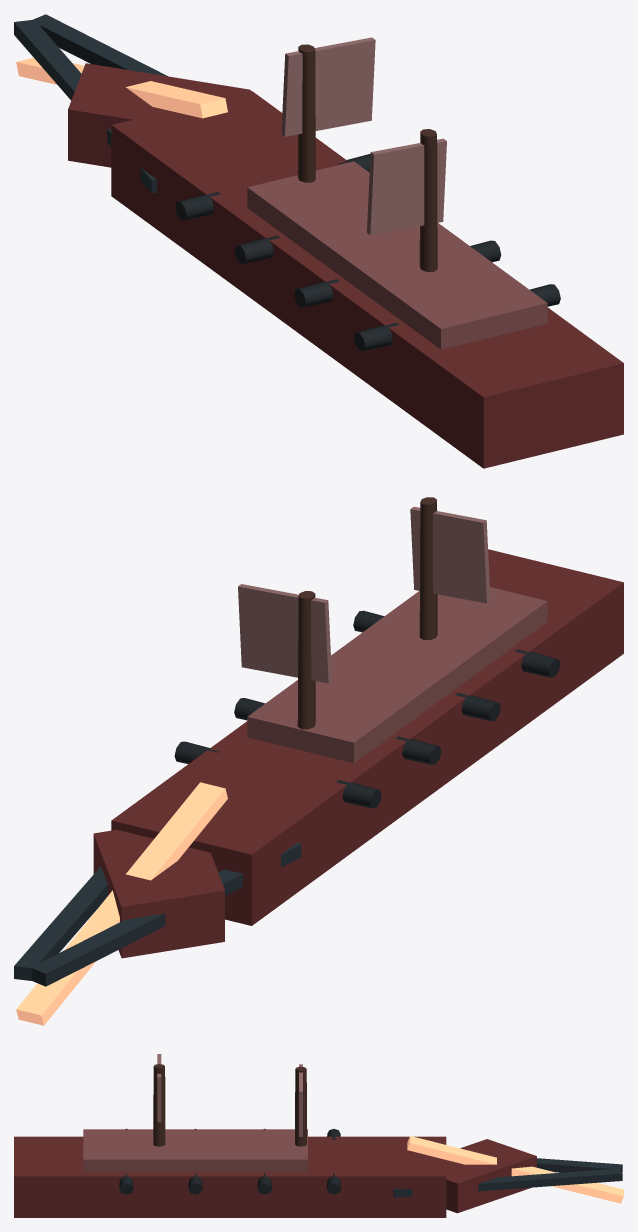
The model's file is ship_main_52.glb.
3 renders of one model, top to bottom at view 1: azimuth 30°, elevation 25°; view 2: azimuth 150°, elevation 25°; view 3: azimuth 270°, elevation 25°, orthographic. The views are drawn at different scales.
Parts seen in each view (by area): view 1: Hull, Deck_0, Bow, Sail_0, Sail_1, ProwIdentity, PortHook, StarboardHook, Mast_1, Mast_0, Gun_P_1, Gun_P_2 (+2 smaller); view 2: Hull, Deck_0, Bow, ProwIdentity, Sail_0, Sail_1, PortHook, StarboardHook, Mast_1, Mast_0, Gun_P_2, Gun_P_0 (+2 smaller); view 3: Hull, Deck_0, Bow, ProwIdentity, StarboardHook, Mast_1, PortHook, Mast_0, Sail_1, Sail_0, Gun_S_2, Gun_S_3.
Boxes of the visible parts, left/top/right/bottom form: Hull: left=111, top=91, right=623, bottom=468; Deck_0: left=247, top=161, right=547, bottom=349; Bow: left=68, top=63, right=250, bottom=167; Sail_0: left=281, top=37, right=375, bottom=136; Sail_1: left=367, top=138, right=446, bottom=235; ProwIdentity: left=16, top=57, right=227, bottom=118; PortHook: left=14, top=19, right=156, bottom=192; StarboardHook: left=33, top=14, right=167, bottom=76; Mast_1: left=419, top=129, right=437, bottom=271; Mast_0: left=297, top=44, right=315, bottom=182; Gun_P_1: left=234, top=235, right=279, bottom=263; Gun_P_2: left=294, top=279, right=339, bottom=307; Hull: left=111, top=549, right=623, bottom=925; Deck_0: left=247, top=587, right=547, bottom=763; Bow: left=93, top=829, right=224, bottom=958; ProwIdentity: left=16, top=782, right=227, bottom=1025; Sail_0: left=238, top=584, right=331, bottom=683; Sail_1: left=410, top=506, right=490, bottom=603; PortHook: left=31, top=843, right=301, bottom=986; StarboardHook: left=14, top=866, right=107, bottom=980; Mast_1: left=419, top=497, right=437, bottom=639; Mast_0: left=297, top=591, right=315, bottom=729; Gun_P_2: left=456, top=693, right=500, bottom=721; Gun_P_0: left=336, top=780, right=381, bottom=808; Hull: left=14, top=1136, right=446, bottom=1217; Deck_0: left=83, top=1129, right=307, bottom=1171; Bow: left=446, top=1139, right=536, bottom=1213; ProwIdentity: left=407, top=1136, right=623, bottom=1203; StarboardHook: left=393, top=1169, right=622, bottom=1197; Mast_1: left=153, top=1064, right=165, bottom=1146; PortHook: left=537, top=1158, right=622, bottom=1172; Mast_0: left=295, top=1066, right=306, bottom=1146; Sail_1: left=157, top=1054, right=161, bottom=1122; Sail_0: left=299, top=1064, right=302, bottom=1136; Gun_S_2: left=188, top=1173, right=202, bottom=1194; Gun_S_3: left=119, top=1173, right=133, bottom=1194.
Size of the model in its own units: 1.9 by 2.14 by 8.84.
